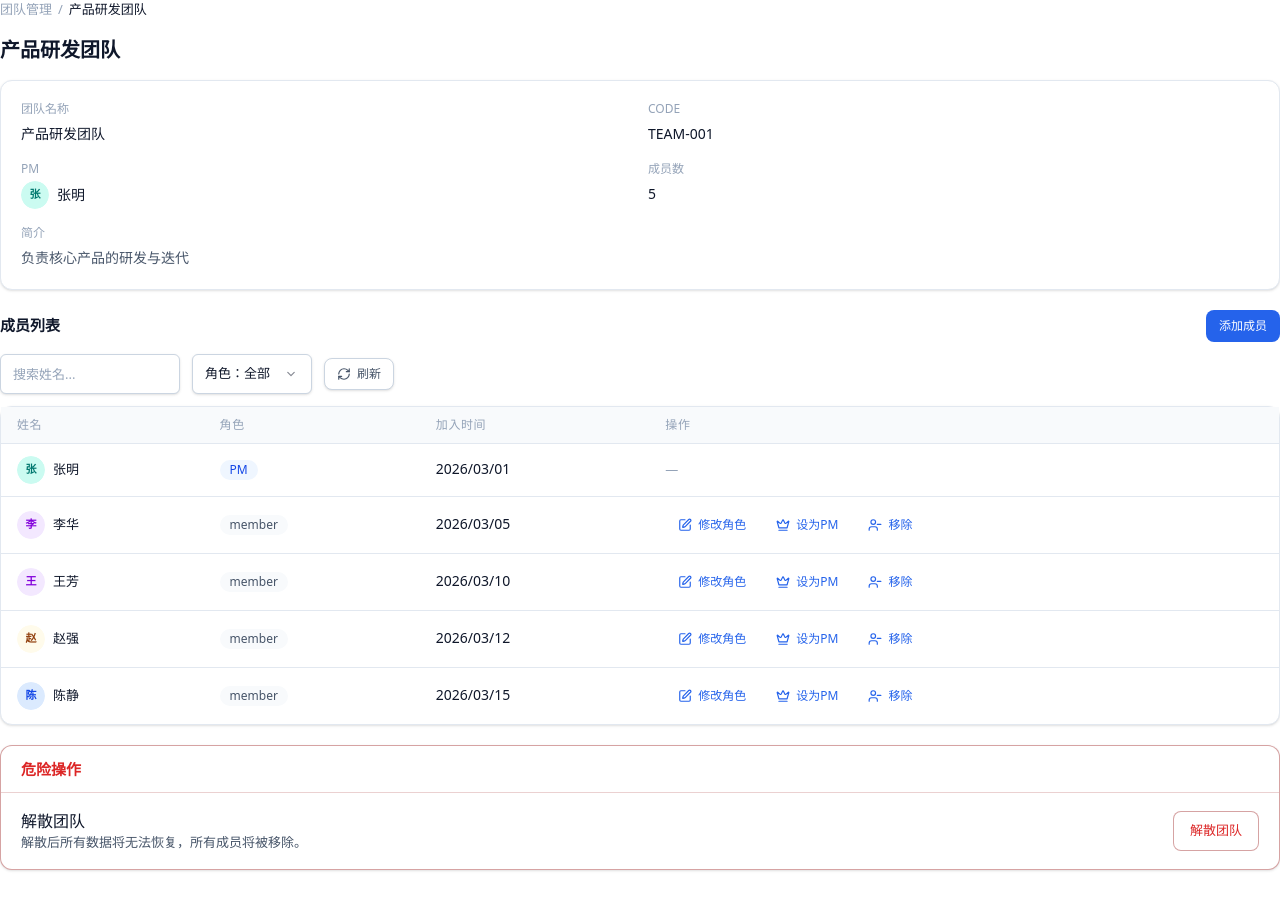
Test: TeamDetailPage › transfer PM shows confirmation dialog
Expected: the text "李华" is shown, [53,515,79,534]
// Click "设为PM" for 李华
What coordinates should you click on to do the following:
click the button "设为PM" in the row of "李华"
I would click on:
 (807, 524)
Its box is [763,508,852,540].
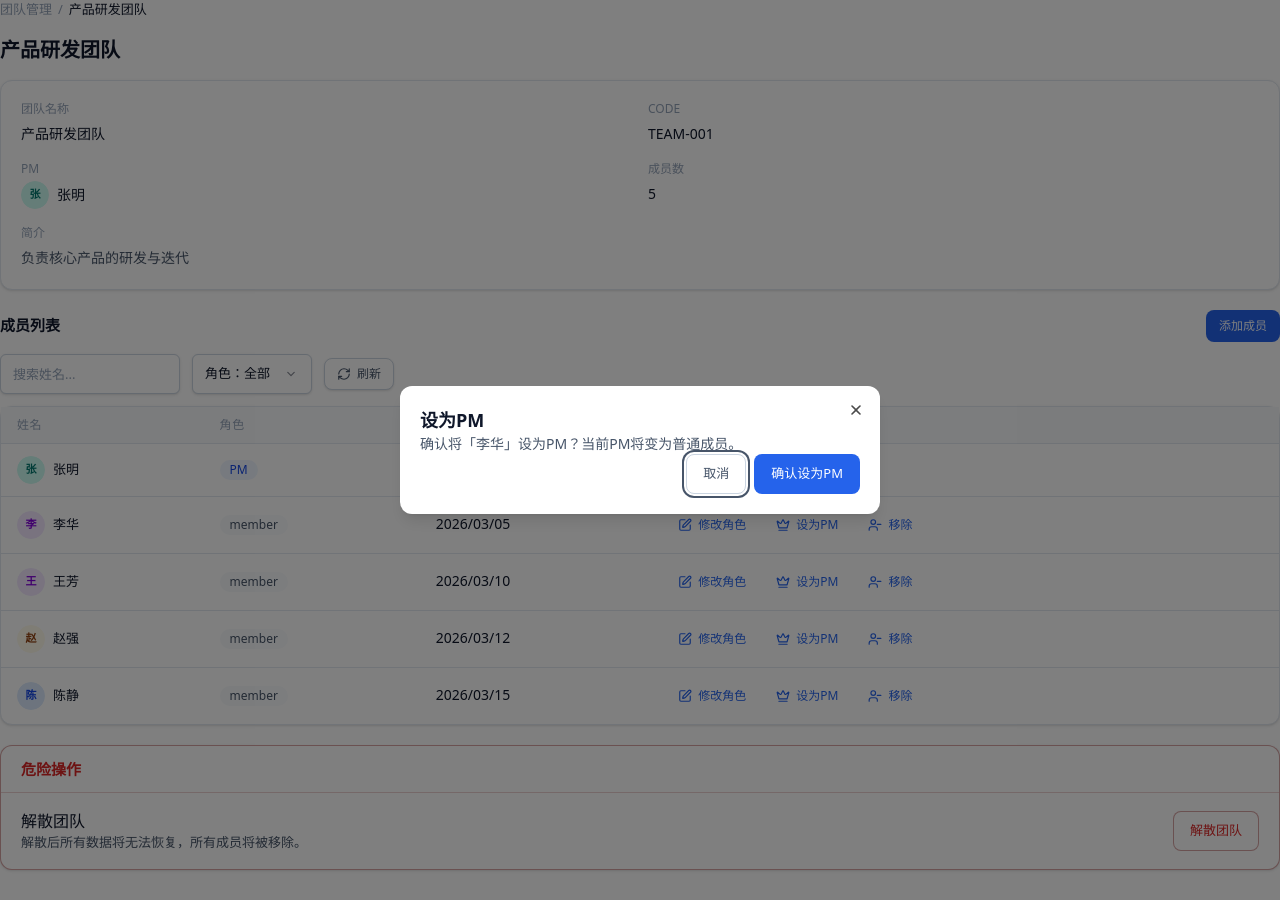
Expected: the text "确认将「李华」设为PM？当前PM将变为普通成员。" is shown, [420,434,742,453]
